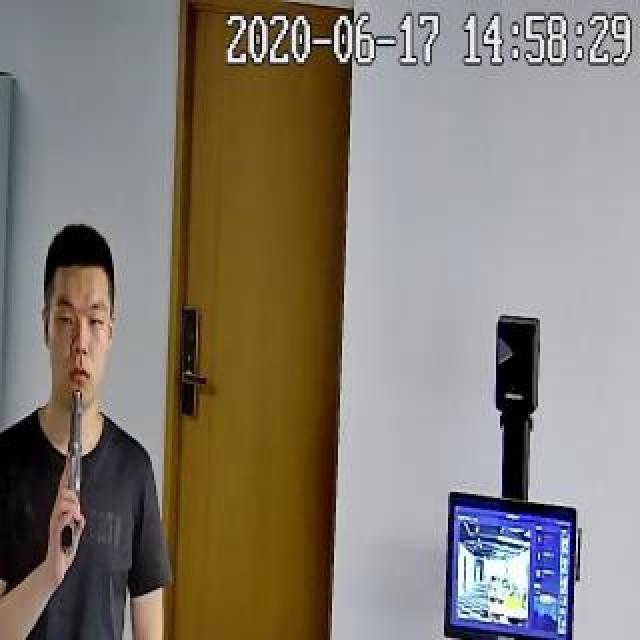Guns: (59, 385, 85, 557)
